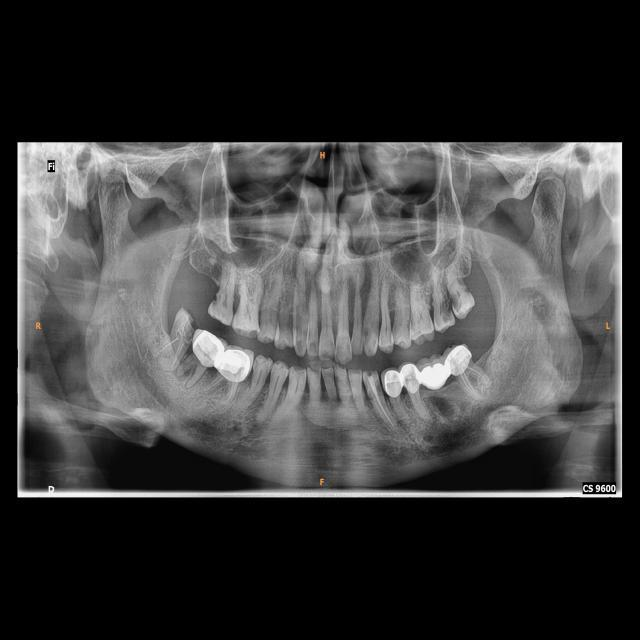dentin-curugu: (175, 312, 200, 346), (438, 290, 452, 333), (448, 286, 467, 316), (211, 286, 226, 314)
kanal-tedavisi: (364, 371, 395, 425), (460, 369, 492, 396), (160, 338, 187, 367)
kaplama: (216, 344, 253, 383), (189, 329, 224, 366), (448, 346, 474, 376), (400, 359, 422, 391), (384, 368, 405, 397)
kopru: (407, 360, 459, 394)
